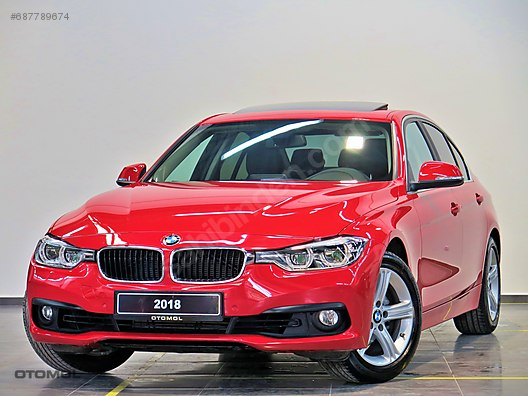b: (16, 95, 509, 386)
